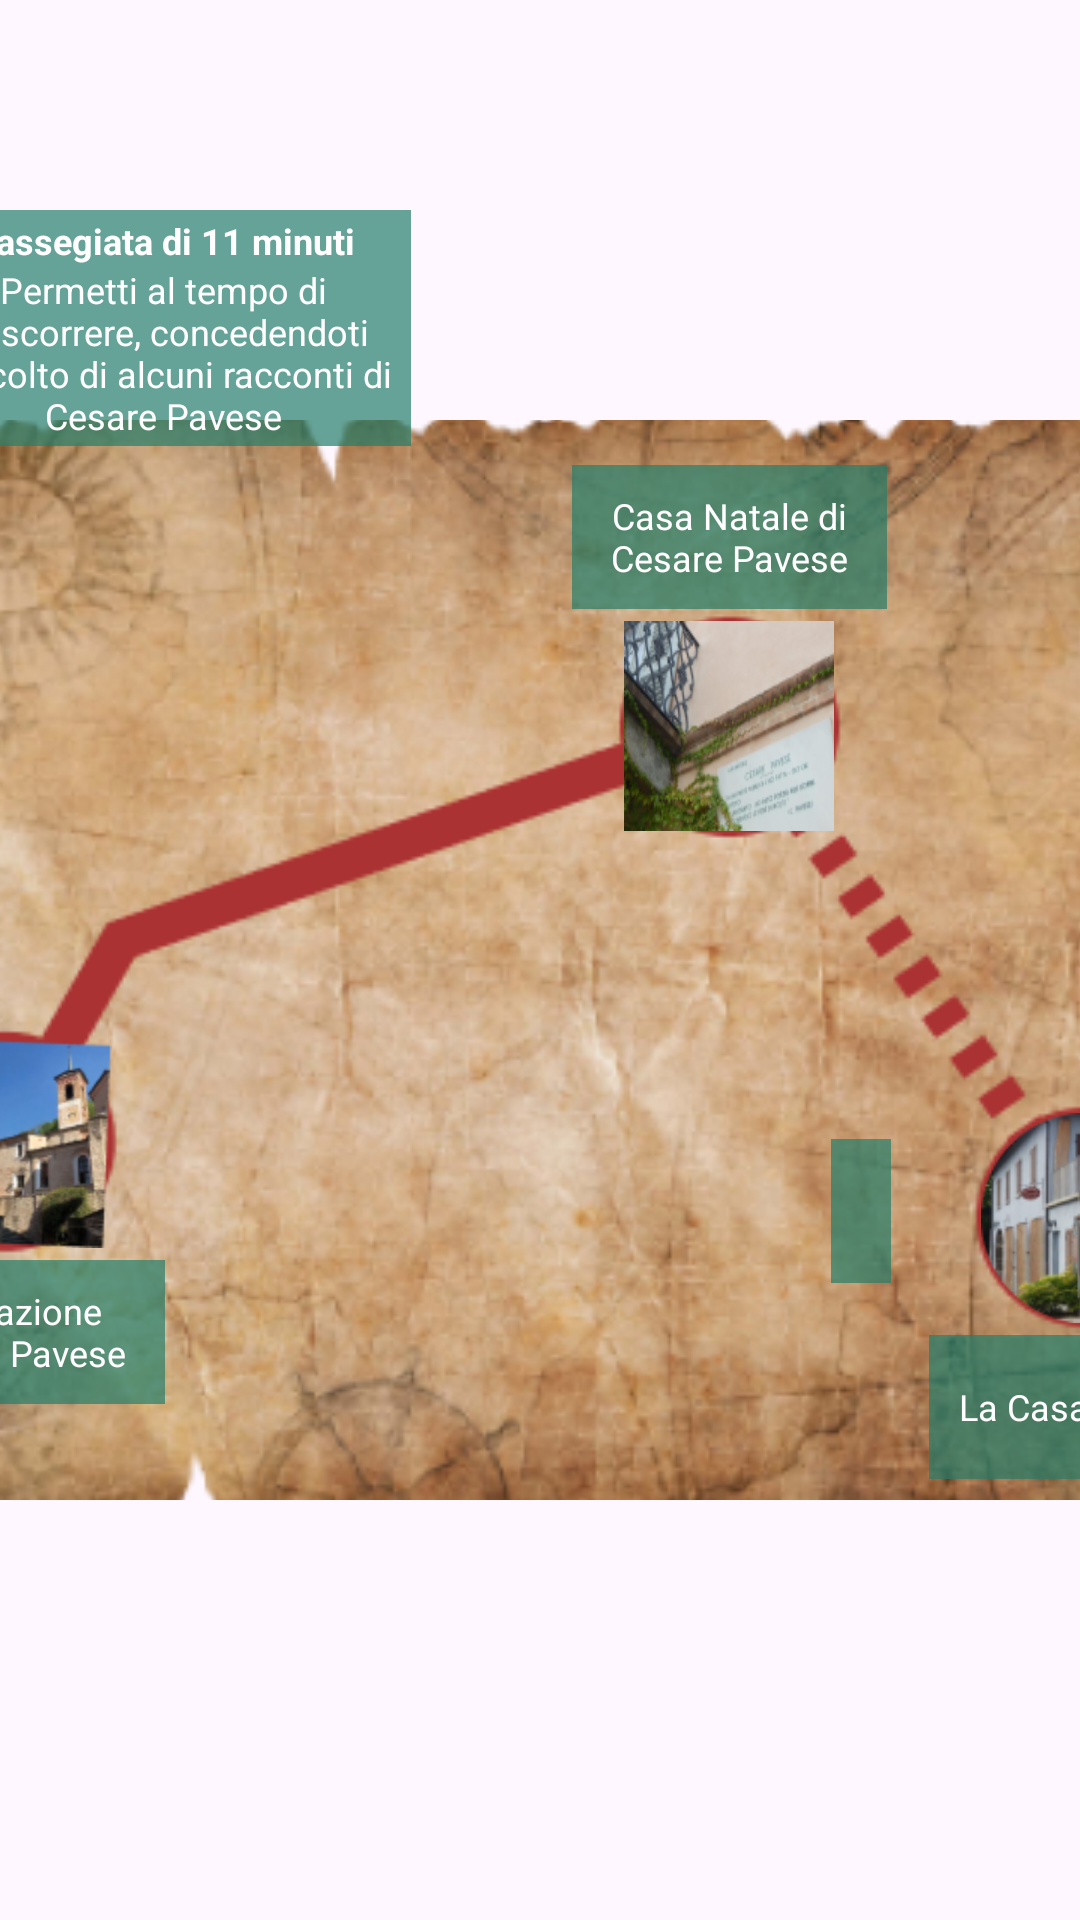

Where to tap for icons on this 1080*1920 app screen, as [x,y]:
pavese house maps: [729,726]
